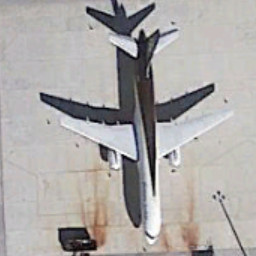Airplane: (54, 25, 237, 253)
